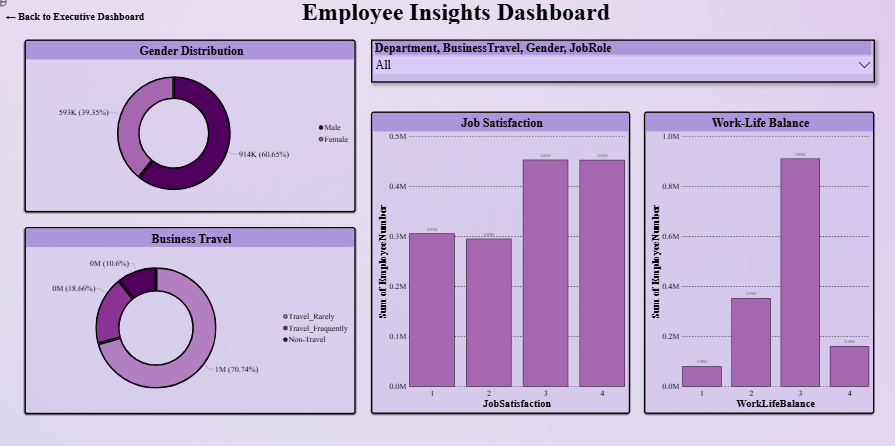

This screenshot's page, from the dashboard's own definition file:
{"tool":"powerbi","page":{"name":"Employee Insights","canvas":[3000,1500],"ordinal":1},"visuals":[{"type":"donutChart","title":"Gender Distribution","fields":{"Y":["Sum(WA_Fn-UseC_-HR-Employee-Attrition.EmployeeNumber)"],"Category":["WA_Fn-UseC_-HR-Employee-Attrition.Gender"]},"box":[96,144,1104,576],"z":0},{"type":"donutChart","title":"Business Travel","fields":{"Y":["Sum(WA_Fn-UseC_-HR-Employee-Attrition.EmployeeNumber)"],"Category":["WA_Fn-UseC_-HR-Employee-Attrition.BusinessTravel"]},"box":[96,768,1104,624],"z":1000},{"type":"clusteredColumnChart","title":"Job Satisfaction","fields":{"Y":["Sum(WA_Fn-UseC_-HR-Employee-Attrition.EmployeeNumber)"],"Category":["WA_Fn-UseC_-HR-Employee-Attrition.JobSatisfaction"]},"box":[1248,384,864,1008],"z":2000},{"type":"clusteredColumnChart","title":"Work-Life Balance","fields":{"Category":["WA_Fn-UseC_-HR-Employee-Attrition.WorkLifeBalance"],"Y":["Sum(WA_Fn-UseC_-HR-Employee-Attrition.EmployeeNumber)"]},"box":[2160,384,768,1008],"z":3000},{"type":"textbox","box":[0,0,3072,96],"z":4000},{"type":"slicer","fields":{"Values":["WA_Fn-UseC_-HR-Employee-Attrition.Department","WA_Fn-UseC_-HR-Employee-Attrition.BusinessTravel","WA_Fn-UseC_-HR-Employee-Attrition.Gender","WA_Fn-UseC_-HR-Employee-Attrition.JobRole"]},"box":[1248,144,1680,144],"z":4001},{"type":"actionButton","box":[0,0,100,40],"z":4002},{"type":"actionButton","box":[0,0,100,40],"z":4003},{"type":"actionButton","title":"← Back to Executive Dashboard","box":[0,48,528,48],"z":4004}]}

Visuals, with their boxes in screenshot pixels (x1, y1, x2, y2), scaled from the page's 3000x1500 canvas onto the 895x446 screenshot:
"Gender Distribution" donutChart: left=29, top=43, right=358, bottom=214
"Business Travel" donutChart: left=29, top=228, right=358, bottom=414
"Job Satisfaction" clusteredColumnChart: left=372, top=114, right=630, bottom=414
"Work-Life Balance" clusteredColumnChart: left=644, top=114, right=874, bottom=414
textbox: left=0, top=0, right=894, bottom=29
slicer - WA_Fn-UseC_-HR-Employee-Attrition.Department x WA_Fn-UseC_-HR-Employee-Attrition.BusinessTravel: left=372, top=43, right=874, bottom=86
actionButton: left=0, top=0, right=30, bottom=12
actionButton: left=0, top=0, right=30, bottom=12
"← Back to Executive Dashboard" actionButton: left=0, top=14, right=158, bottom=29
